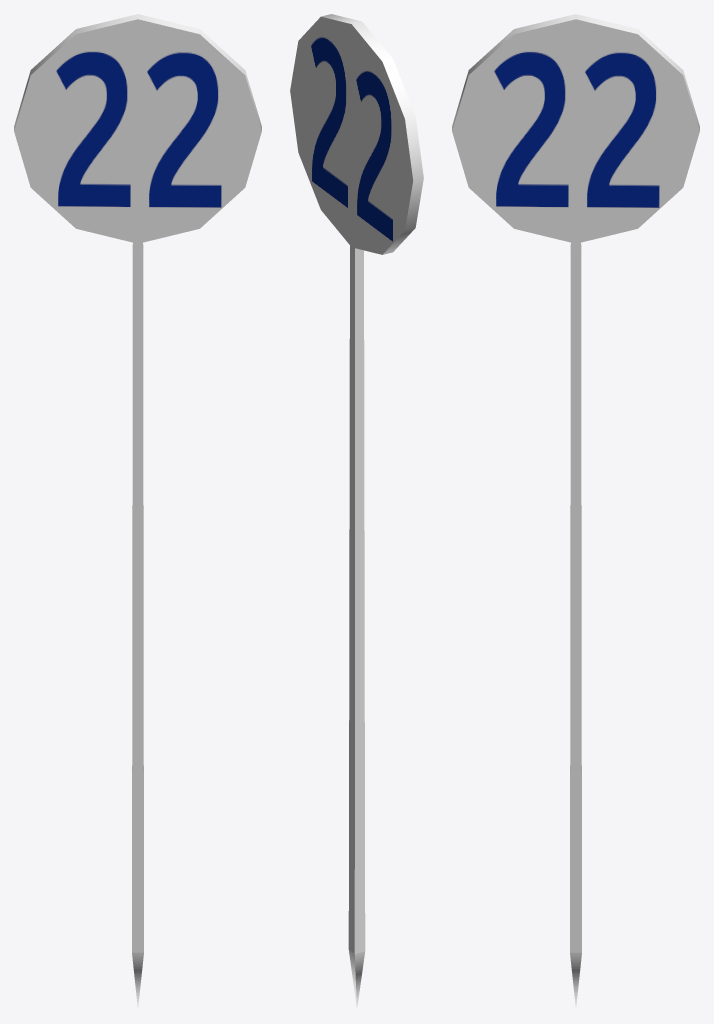
Rendered from Marker_Shot_Put_22.FBX.
3 renders of one model, left to right at view 1: azimuth 90°, elevation 25°; view 2: azimuth 210°, elevation 25°; view 3: azimuth 270°, elevation 25°, orthographic.
Parts seen in each view (by area): view 1: Marker_Shot_Put_22; view 2: Marker_Shot_Put_22; view 3: Marker_Shot_Put_22.
Part boxes in pixels (bbox=[...]): Marker_Shot_Put_22: bbox=[14, 14, 261, 1007]; Marker_Shot_Put_22: bbox=[290, 14, 423, 1008]; Marker_Shot_Put_22: bbox=[452, 14, 699, 1007].
Size of the model in its own units: 0.1115 by 9.84 by 2.22.
